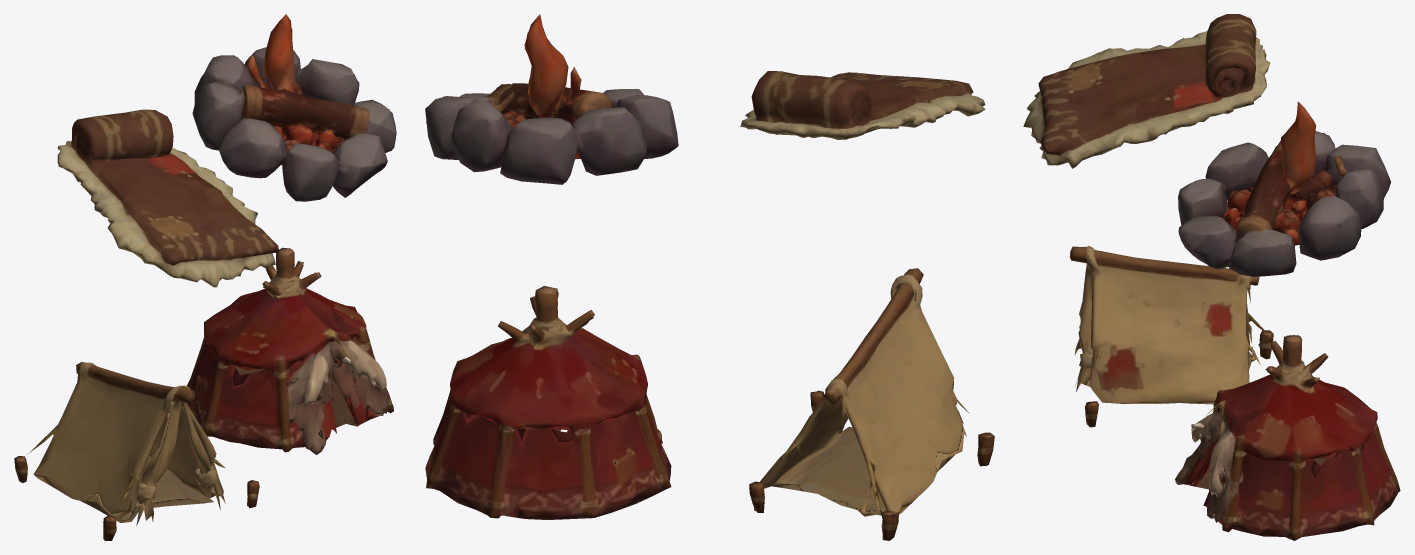
3 views of the same model, side by side, from view 1: azimuth 30°, elevation 25°; view 2: azimuth 150°, elevation 25°; view 3: azimuth 270°, elevation 25° (orthographic). The views are drawn at different scales.
Parts seen in each view (by area): view 1: world; view 2: world; view 3: world.
Boxes of the visible parts, x1=… form: world: x1=14, y1=14, x2=396, y2=540; world: x1=425, y1=14, x2=994, y2=540; world: x1=1023, y1=14, x2=1400, y2=540.
Size of the model in its own units: 0.9924 by 0.98 by 0.8429.
Materials: 1 (1 with a texture image).
